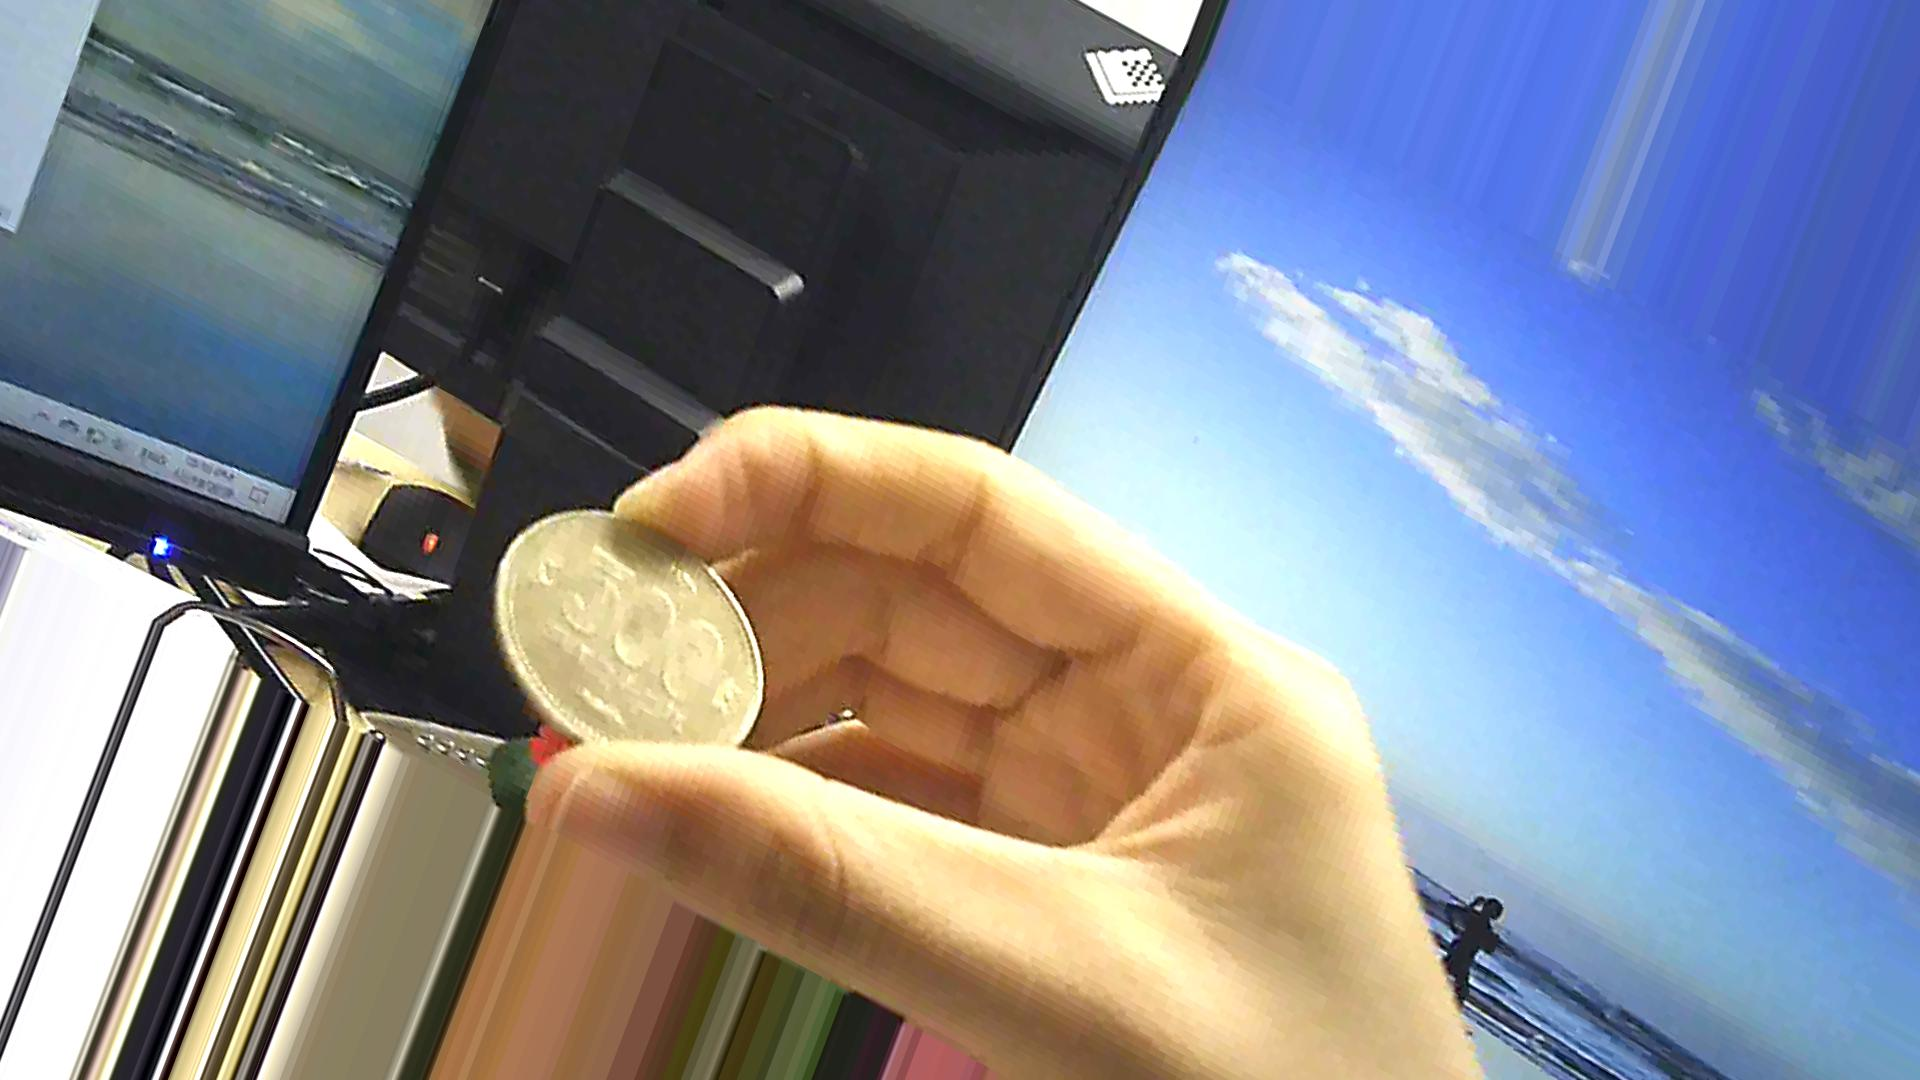500 Yen: (493, 487, 771, 764)
